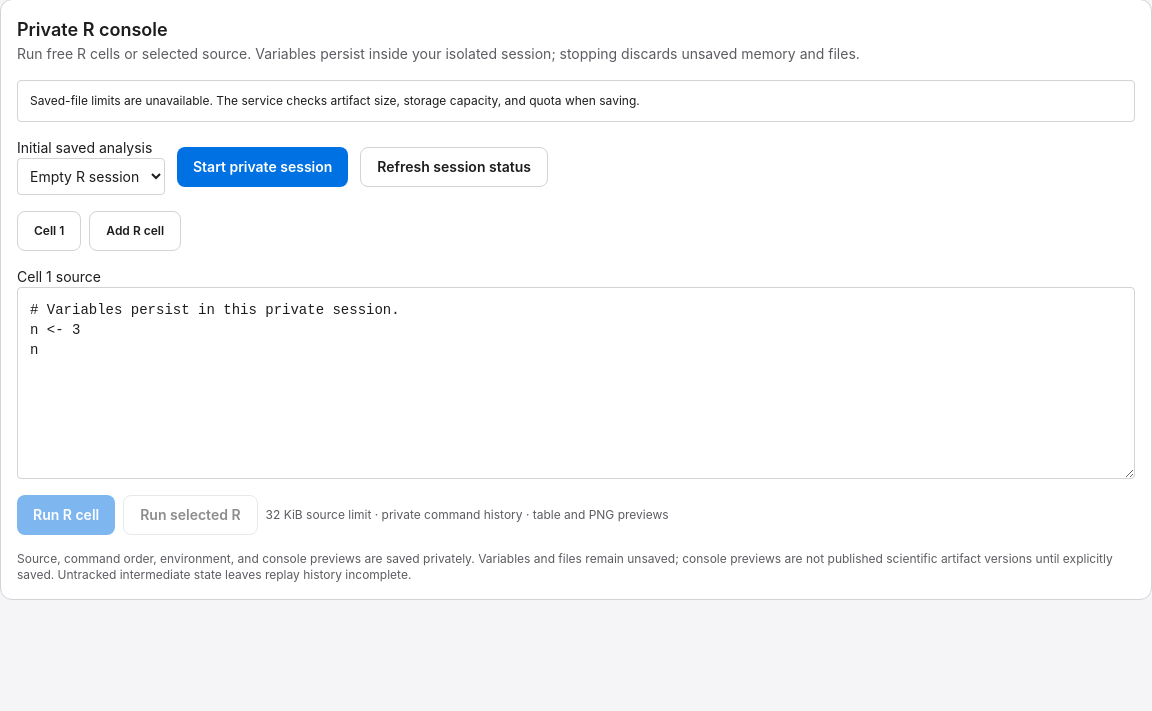
Test case: blocks remote commands and saves after tunnel loss while retaining confirmed output and editable source
Click the button "Start private session" at (263, 166), box [177, 146, 348, 186]
(page scrolled)
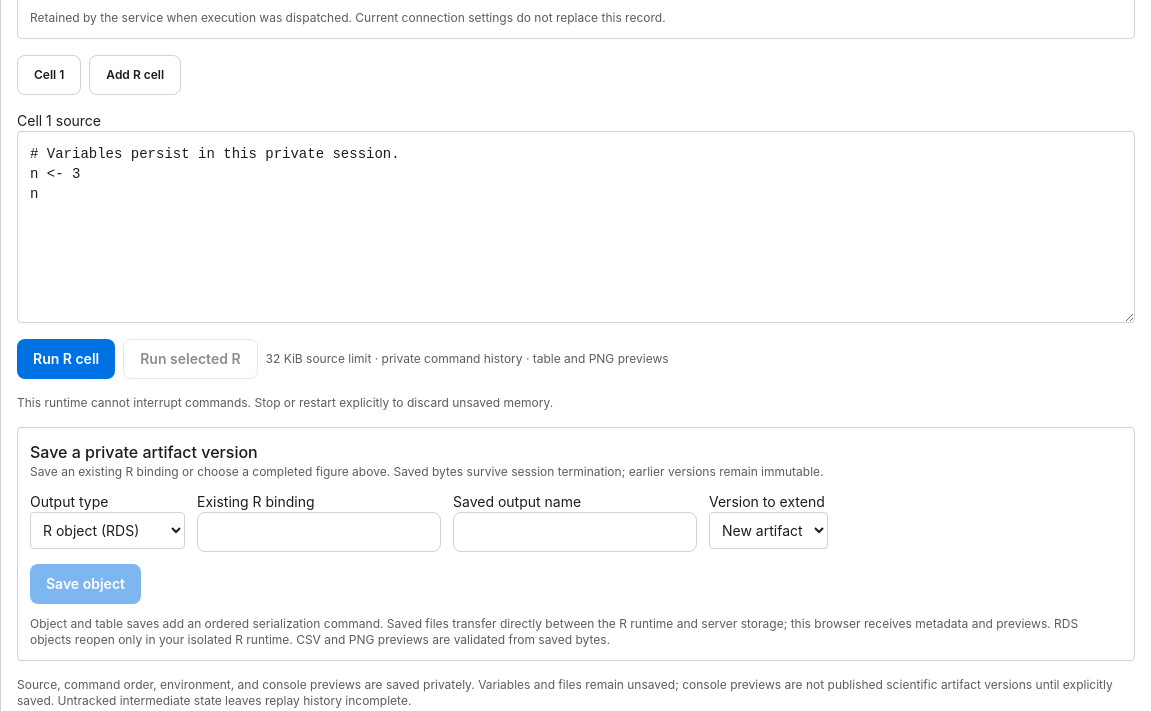
Click the button "Run R cell" at (66, 359), box [17, 339, 115, 379]
(page scrolled)
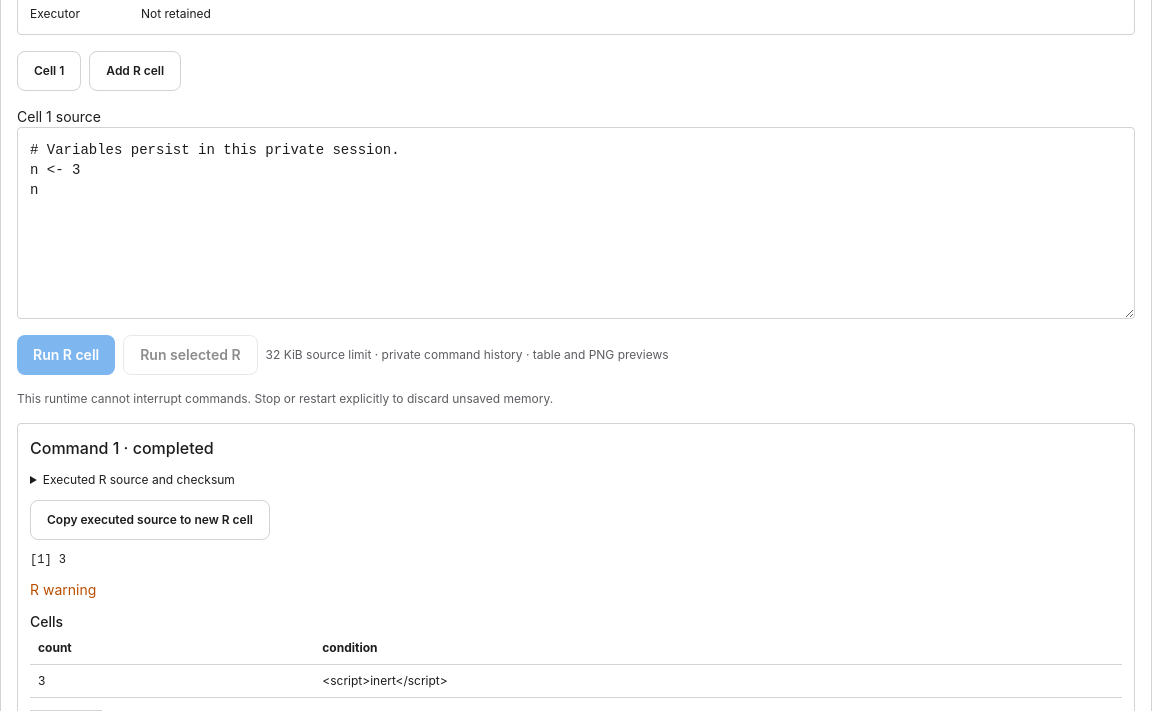
Expected: the button "Run R cell" is disabled, [17, 335, 115, 375]
Expected: the text named "R stdout" reads "[1] 3", [30, 553, 66, 567]
Replace the text in the text box named "R console source" with "inspect_later <- 42" at (576, 223), box [17, 127, 1135, 319]
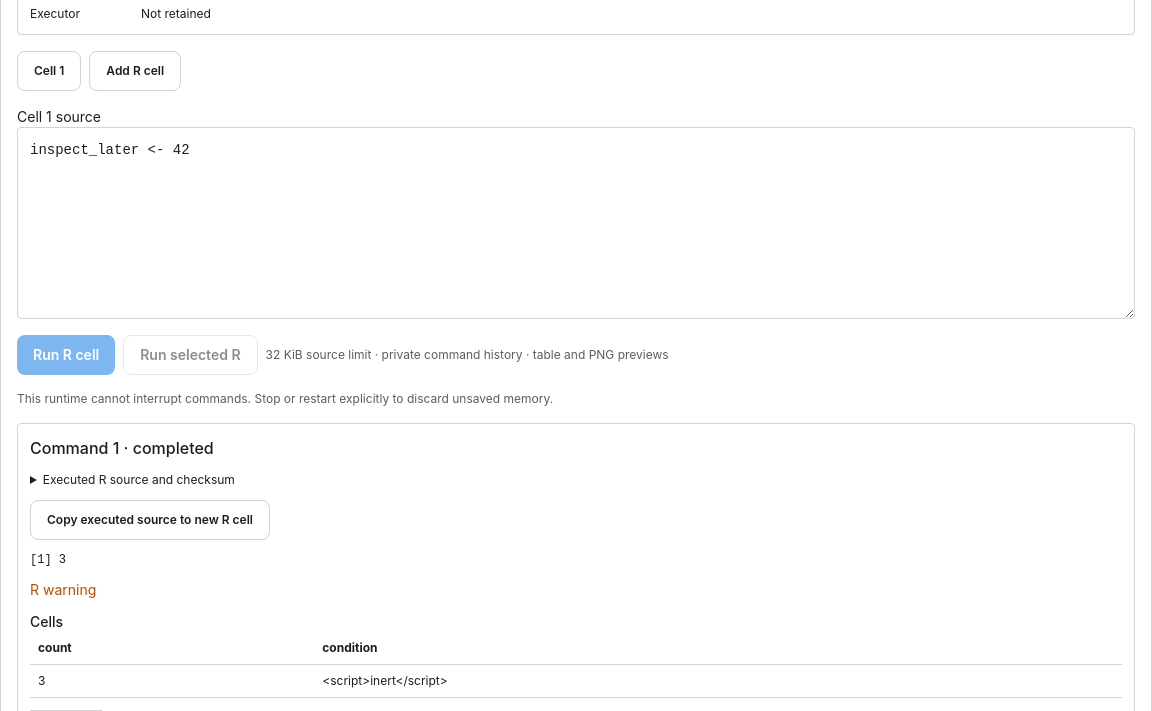
Click the button "Run R cell" at (66, 355), box [17, 335, 115, 375]
(page scrolled)
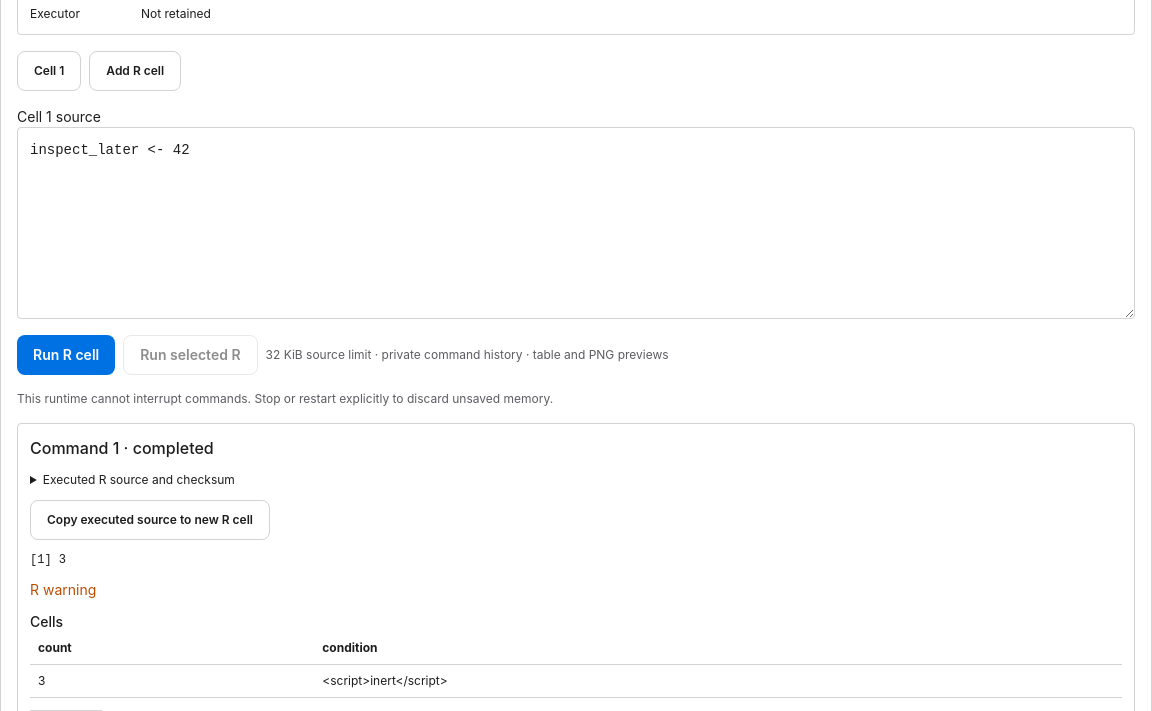
Expected: the button "Run R cell" is enabled, [17, 335, 115, 375]
